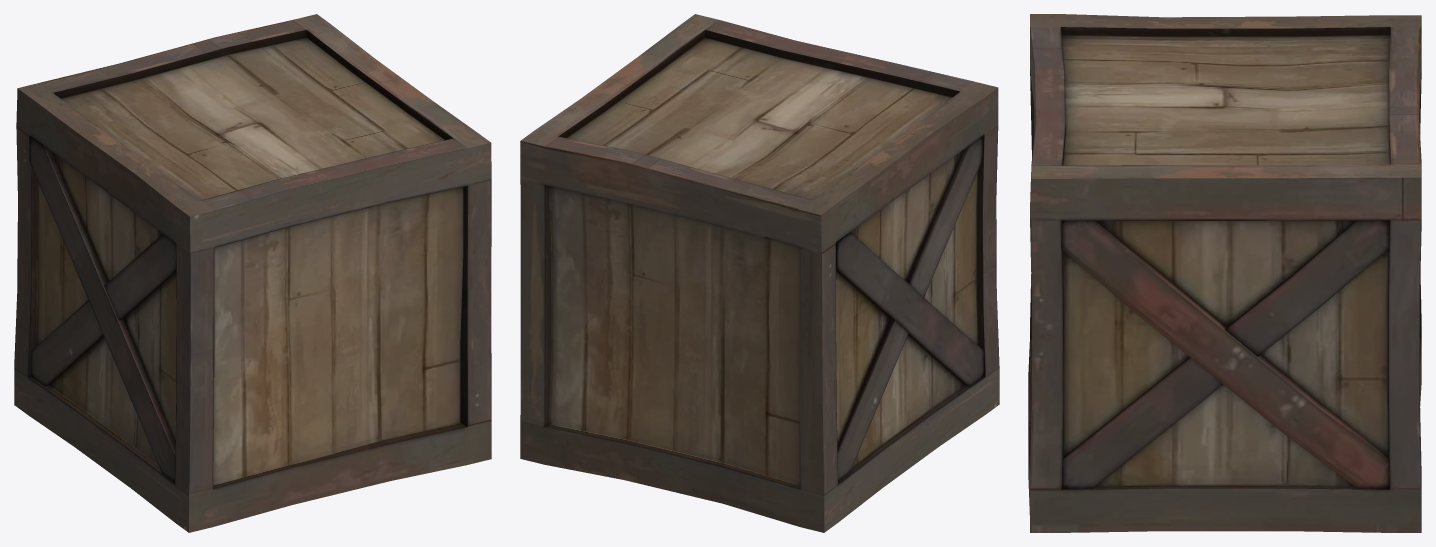
3 renders of one model, left to right at view 1: azimuth 30°, elevation 25°; view 2: azimuth 150°, elevation 25°; view 3: azimuth 270°, elevation 25°, orthographic. The views are drawn at different scales.
Parts seen in each view (by area): view 1: body0_model0_lod0_mesh0; view 2: body0_model0_lod0_mesh0; view 3: body0_model0_lod0_mesh0.
Boxes of the visible parts, x1,y1,x2,y2 form: body0_model0_lod0_mesh0: (14, 14, 491, 532); body0_model0_lod0_mesh0: (520, 14, 999, 532); body0_model0_lod0_mesh0: (1028, 14, 1421, 532).
Bounding box in the file's own units: 100 × 101 × 100.
1 material, 1 textured.
